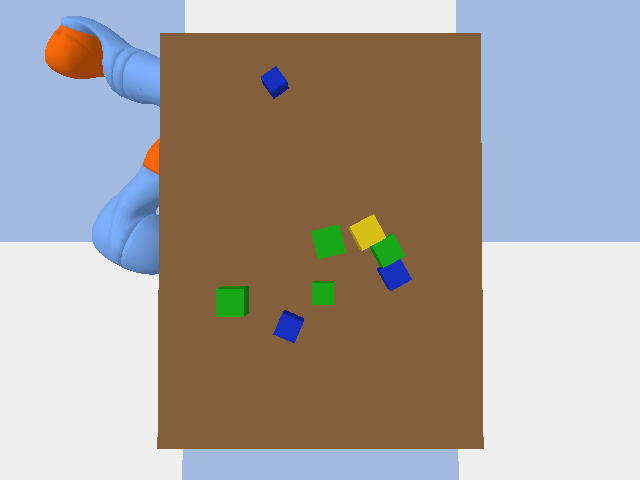blue_obj: (377, 259, 411, 290), (273, 310, 303, 342), (261, 66, 288, 98)
green_obj: (311, 224, 345, 258), (370, 234, 405, 267), (216, 286, 248, 316), (312, 281, 333, 304)
yellow_obj: (348, 214, 385, 250)
